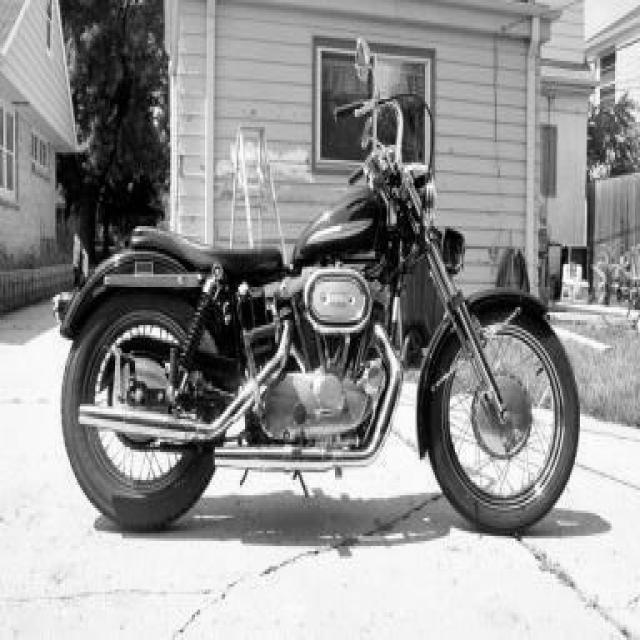Motorcycle: (61, 99, 582, 533)
